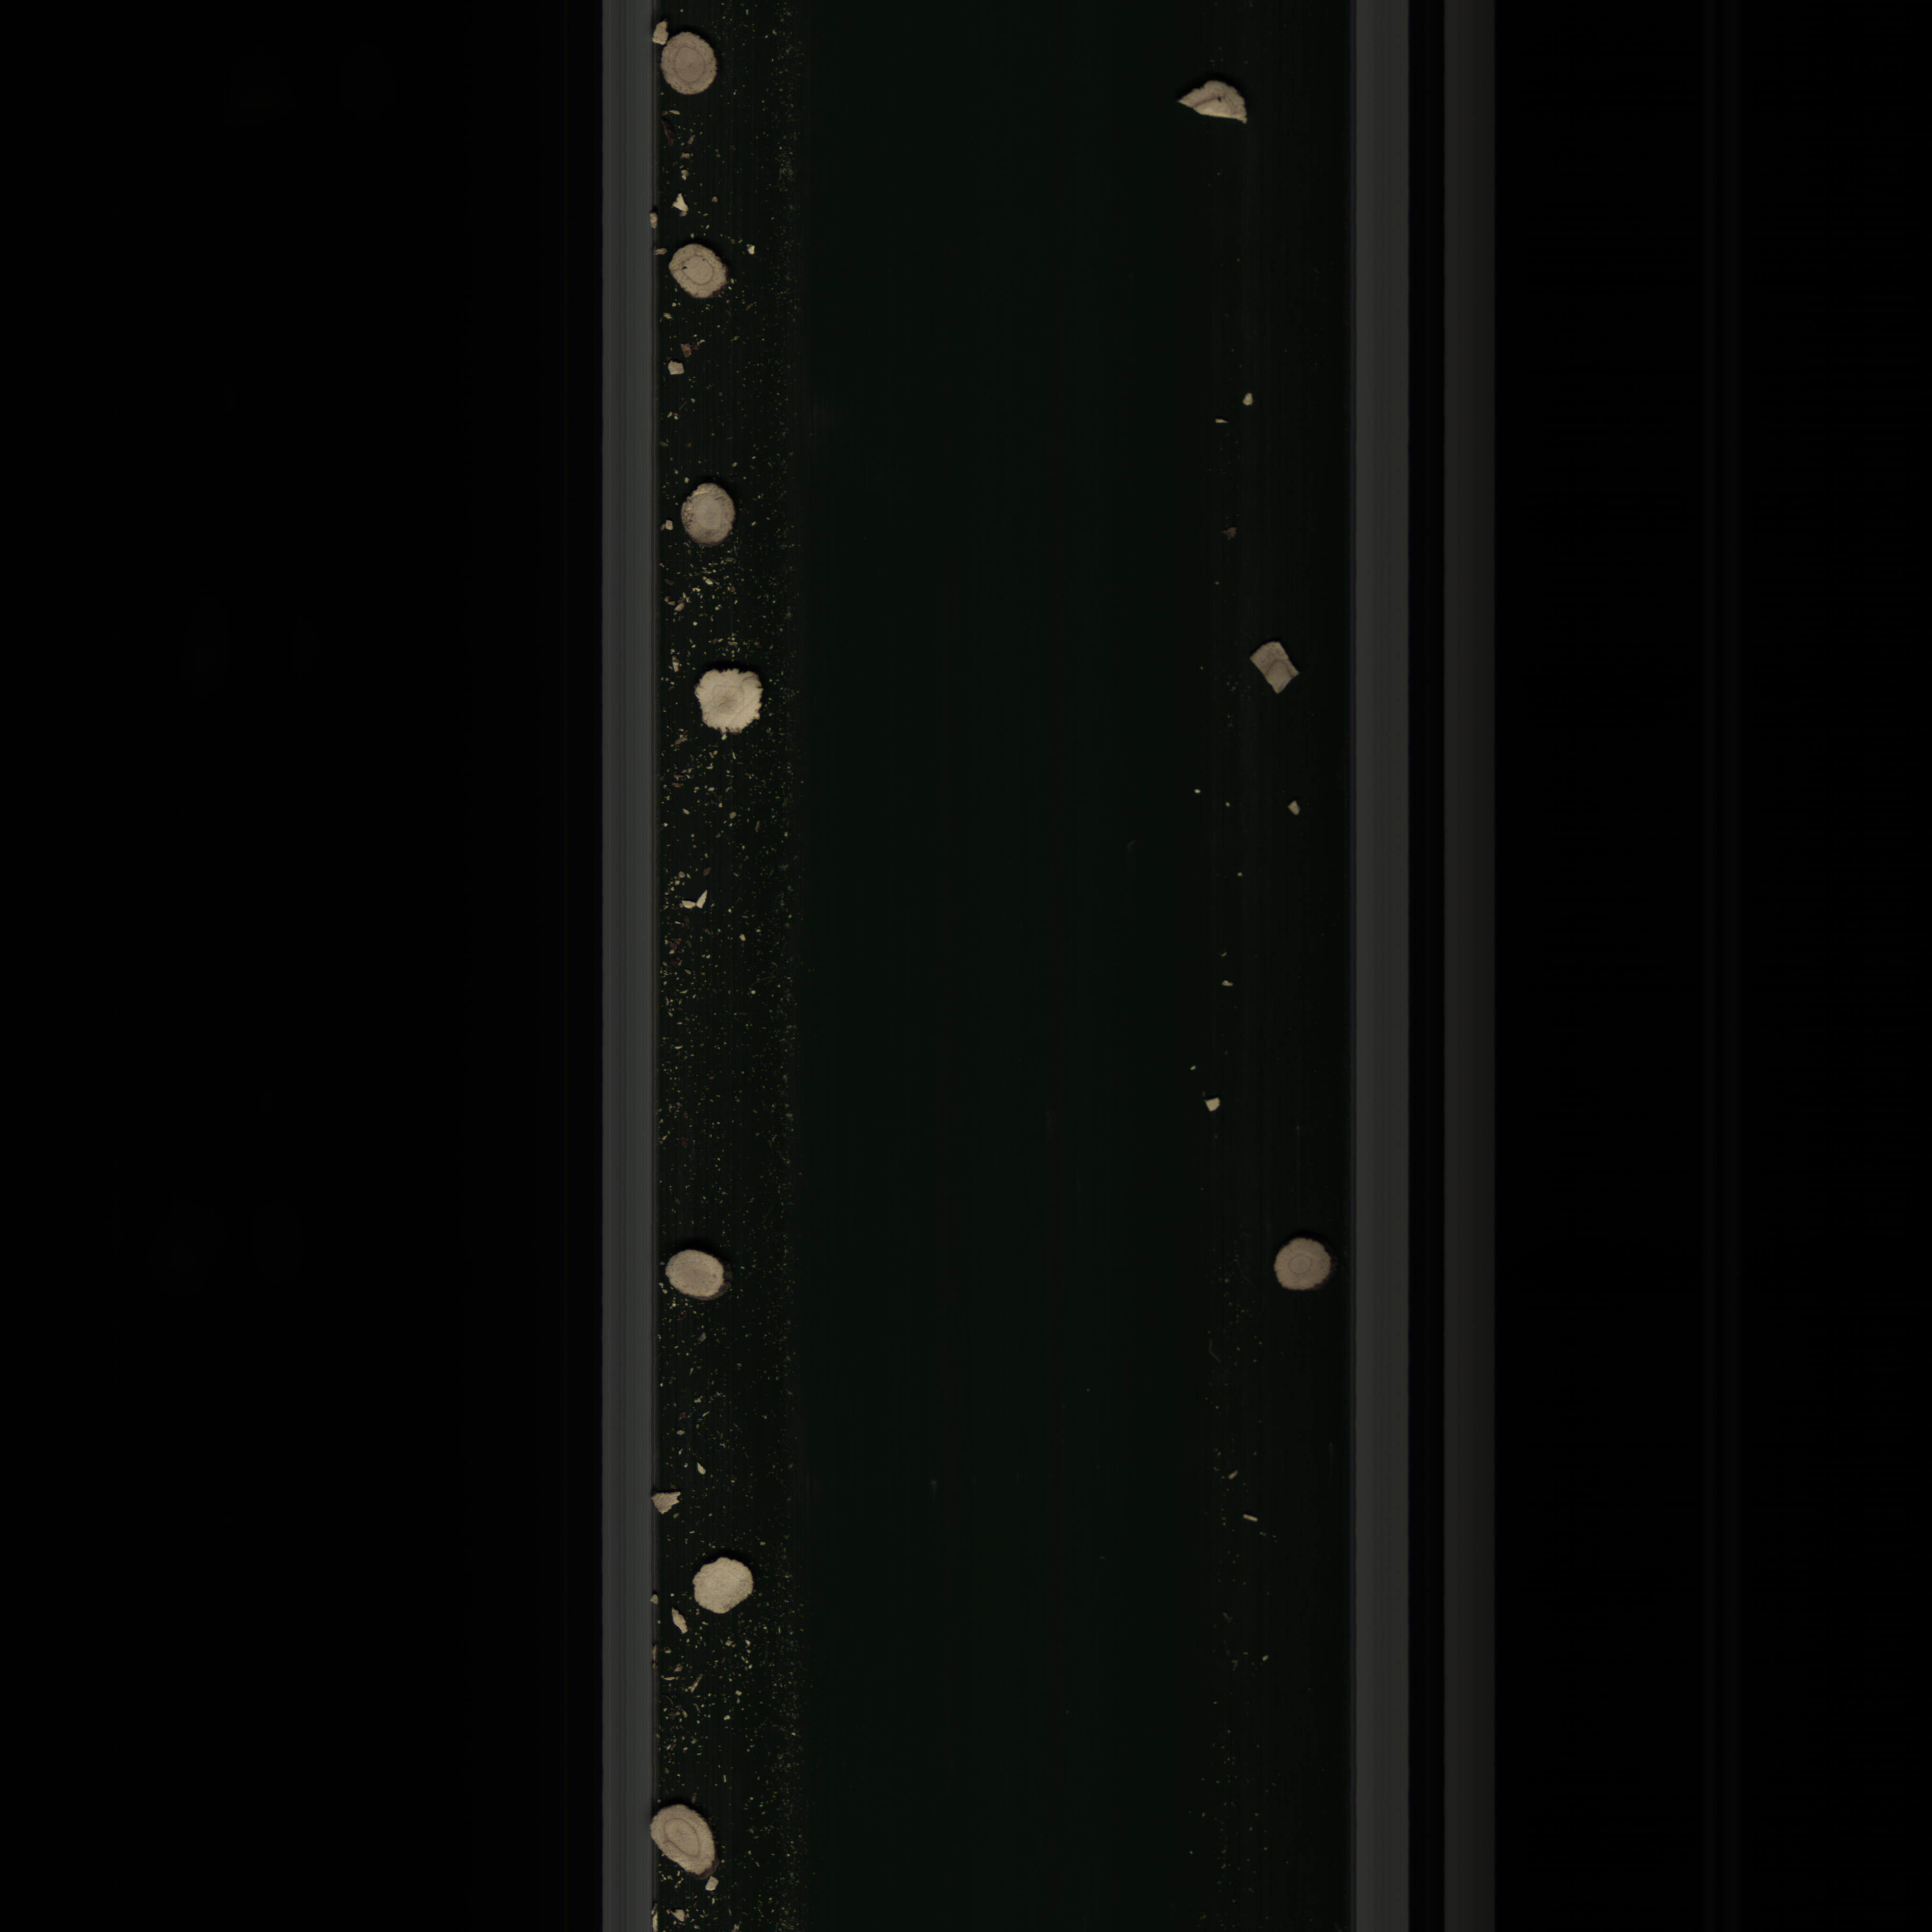debris: (1169, 76, 1263, 145), (1244, 635, 1307, 699), (649, 1491, 699, 1516)
